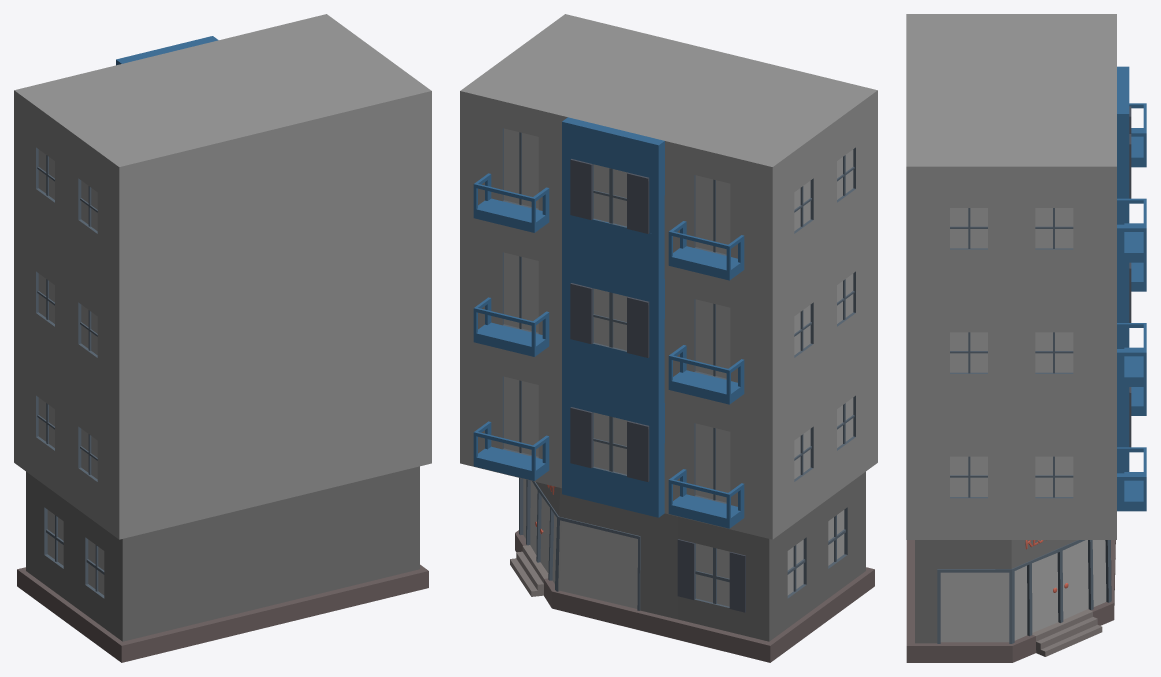
The model's file is Restaurant.fbx.
3 views of the same model, side by side, from view 1: azimuth 30°, elevation 25°; view 2: azimuth 150°, elevation 25°; view 3: azimuth 270°, elevation 25° (orthographic).
Parts seen in each view (by area): view 1: restaurant.004; view 2: restaurant.004; view 3: restaurant.004.
Boxes of the visible parts, bbox=[...] form: restaurant.004: bbox=[14, 14, 431, 662]; restaurant.004: bbox=[460, 14, 877, 662]; restaurant.004: bbox=[906, 14, 1146, 662].
Size of the model in its own units: 4482 by 6804 by 2978.
